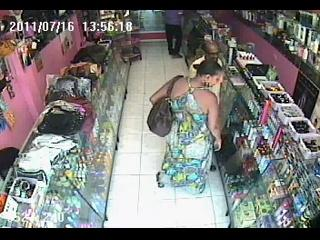Normal: (148, 60, 226, 194), (146, 79, 182, 138), (188, 39, 226, 78), (163, 10, 184, 58)
